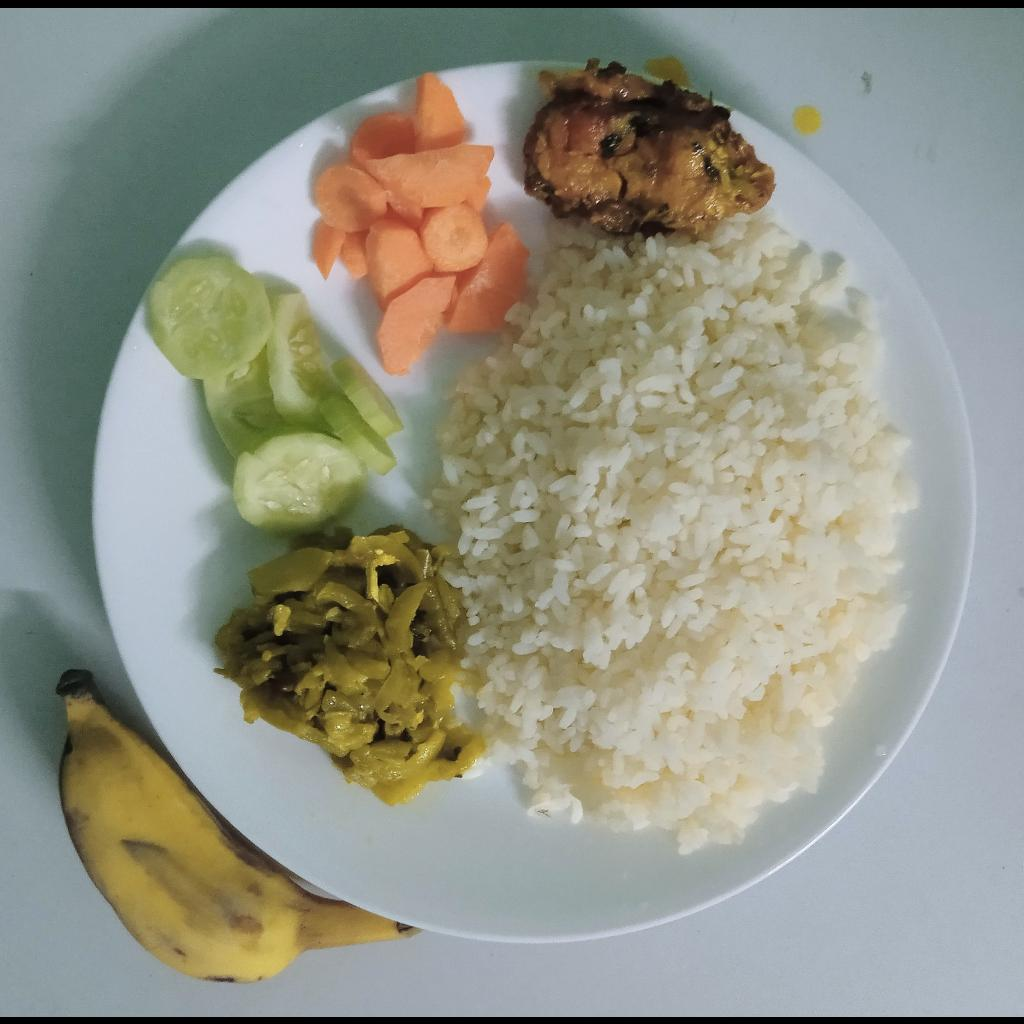banana: (54, 669, 427, 985)
carrot: (311, 72, 530, 375)
cucumber: (142, 255, 406, 534)
fish: (524, 58, 775, 233)
rice: (429, 211, 923, 859)
vegetable: (211, 527, 479, 811)
